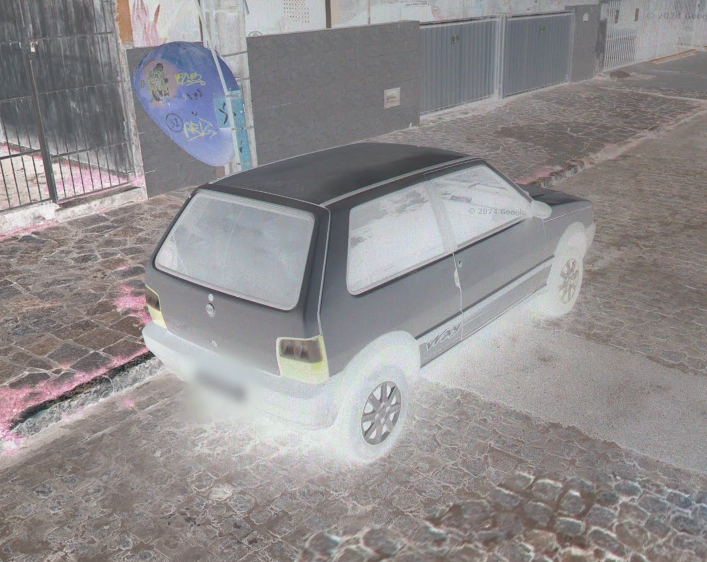car: (143, 141, 596, 461)
